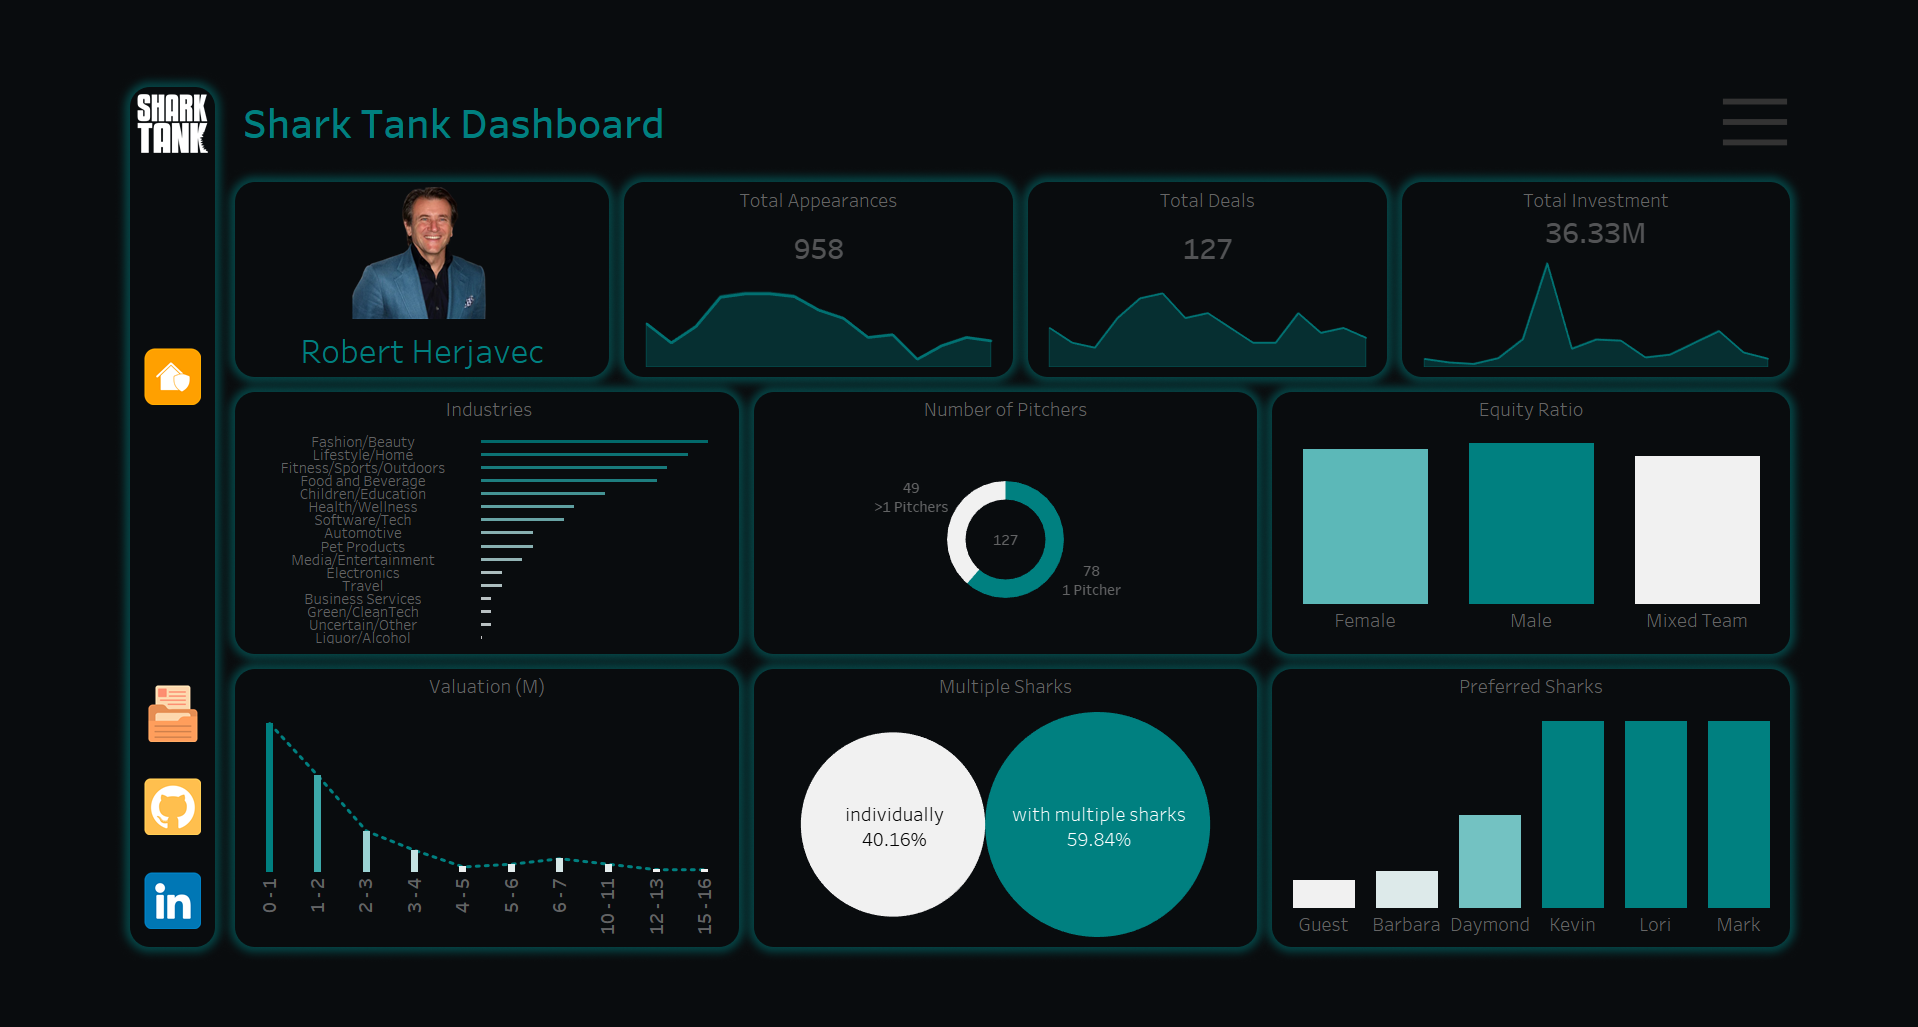

The dashboard page shown, as its layout file describes it:
{"tool":"tableau","page":{"name":"Robert Dashboard","canvas":[1700,900],"ordinal":6},"visuals":[{"type":"image","param":"Image/Robert Dashboard figma frame.png","box":[0,0,1700,900]},{"type":"image","param":"Image/Shark Tank Logo.png","box":[20,20,85,70]},{"type":"text","box":[125,20,912,70]},{"type":"filter","title":"Robert Top 5 Industries by No of Deals","param":"[federated.1ieom2h10l72pi1cs9e2u08v19sh].[none:industry:nk]","box":[1037,20,231,70]},{"type":"blank","box":[1037,20,643,70]},{"type":"filter","title":"Robert Top 5 Industries by No of Deals","param":"[federated.1ieom2h10l72pi1cs9e2u08v19sh].[none:season:ok]","box":[1268,20,247,70]},{"type":"dashboard-object","box":[1610,20,70,71]},{"type":"blank","box":[20,90,85,156]},{"type":"image","param":"Image/Robert Herjavec.png","box":[125,115,374,142]},{"type":"text","box":[514,115,389,35]},{"type":"text","box":[918,115,359,35]},{"type":"text","box":[1292,115,388,35]},{"type":"worksheet","title":"BAN Robert Appearance","mark":"Text","box":[514,150,389,61]},{"type":"worksheet","title":"BAN Robert Deals","mark":"Text","box":[918,150,359,61]},{"type":"worksheet","title":"BAN Robert Total Investment","mark":"Text","box":[1292,150,388,30]},{"type":"worksheet","title":"Robert Total Investment","mark":"Line","rows":["robert_inv_amt","robert_inv_amt"],"cols":["season"],"box":[1292,180,388,130]},{"type":"worksheet","title":"Robert Appearances ","mark":"Area","rows":["robert","robert"],"cols":["season"],"box":[514,211,389,99]},{"type":"worksheet","title":"Robert Deals ","mark":"Line","rows":["Robert_invested","Robert_invested"],"cols":["season"],"box":[918,211,359,99]},{"type":"dashboard-object","box":[20,246,85,128]},{"type":"text","box":[125,257,374,53]},{"type":"text","box":[125,325,504,33]},{"type":"text","box":[644,325,503,33]},{"type":"text","box":[1162,325,518,33]},{"type":"worksheet","title":"Robert Top 5 Industries by No of Deals","mark":"Bar","rows":["industry"],"cols":["Robert_invested"],"box":[125,358,504,229]},{"type":"worksheet","title":"Robert Preferences for No of Pitchers ","mark":"Pie","rows":["Calculation_1245245364195418118","Calculation_1245245364195418118"],"box":[644,358,503,229]},{"type":"worksheet","title":"Robert Preferences for Offered:Deal Ratio","mark":"Automatic","rows":["Calculation_2397322443195224066"],"cols":["gender"],"box":[1162,358,518,229]},{"type":"blank","box":[20,374,85,226]},{"type":"image","param":"Image/portfolio-folder.png","box":[20,600,85,93.3]},{"type":"text","box":[125,602,504,33]},{"type":"text","box":[644,602,503,33]},{"type":"text","box":[1162,602,518,33]},{"type":"worksheet","title":"Robert Mode of Deal Valuation (M)","mark":"Line","rows":["data_1A36516F31B94259A03002EB3918A69C","data_1A36516F31B94259A03002EB3918A69C"],"cols":["Deal Valuation (bin)"],"box":[125,635,504,245]},{"type":"worksheet","title":"Robert Preferences for Multi Shark Deals","mark":"Circle","box":[644,635,503,245]},{"type":"worksheet","title":"Robert Shark Pairing Preferences","mark":"Automatic","cols":["Robert_invested"],"box":[1162,635,518,245]},{"type":"image","param":"Image/github.png","box":[20,693.3,85,93.3]},{"type":"image","param":"Image/follow-me-on-linkedin-social-badge.png","box":[20,786.7,85,93.3]}]}

Visuals, with their boxes in screenshot pixels (x1, y1, x2, y2), scaled from the page's 1700x900 canvas onto the 1918x1027 screenshot:
image: Rect(0, 0, 1917, 1026)
image: Rect(23, 23, 118, 103)
text: Rect(141, 23, 1170, 103)
"Robert Top 5 Industries by No of Deals" filter: Rect(1170, 23, 1431, 103)
blank: Rect(1170, 23, 1895, 103)
"Robert Top 5 Industries by No of Deals" filter: Rect(1431, 23, 1709, 103)
dashboard-object: Rect(1816, 23, 1895, 104)
blank: Rect(23, 103, 118, 281)
image: Rect(141, 131, 563, 293)
text: Rect(580, 131, 1019, 171)
text: Rect(1036, 131, 1441, 171)
text: Rect(1458, 131, 1895, 171)
"BAN Robert Appearance" worksheet (Text marks): Rect(580, 171, 1019, 241)
"BAN Robert Deals" worksheet (Text marks): Rect(1036, 171, 1441, 241)
"BAN Robert Total Investment" worksheet (Text marks): Rect(1458, 171, 1895, 205)
"Robert Total Investment" worksheet (Line marks): Rect(1458, 205, 1895, 354)
"Robert Appearances " worksheet (Area marks): Rect(580, 241, 1019, 354)
"Robert Deals " worksheet (Line marks): Rect(1036, 241, 1441, 354)
dashboard-object: Rect(23, 281, 118, 427)
text: Rect(141, 293, 563, 354)
text: Rect(141, 371, 710, 409)
text: Rect(727, 371, 1294, 409)
text: Rect(1311, 371, 1895, 409)
"Robert Top 5 Industries by No of Deals" worksheet (Bar marks): Rect(141, 409, 710, 670)
"Robert Preferences for No of Pitchers " worksheet (Pie marks): Rect(727, 409, 1294, 670)
"Robert Preferences for Offered:Deal Ratio" worksheet: Rect(1311, 409, 1895, 670)
blank: Rect(23, 427, 118, 685)
image: Rect(23, 685, 118, 791)
text: Rect(141, 687, 710, 725)
text: Rect(727, 687, 1294, 725)
text: Rect(1311, 687, 1895, 725)
"Robert Mode of Deal Valuation (M)" worksheet (Line marks): Rect(141, 725, 710, 1004)
"Robert Preferences for Multi Shark Deals" worksheet (Circle marks): Rect(727, 725, 1294, 1004)
"Robert Shark Pairing Preferences" worksheet: Rect(1311, 725, 1895, 1004)
image: Rect(23, 791, 118, 898)
image: Rect(23, 898, 118, 1004)
